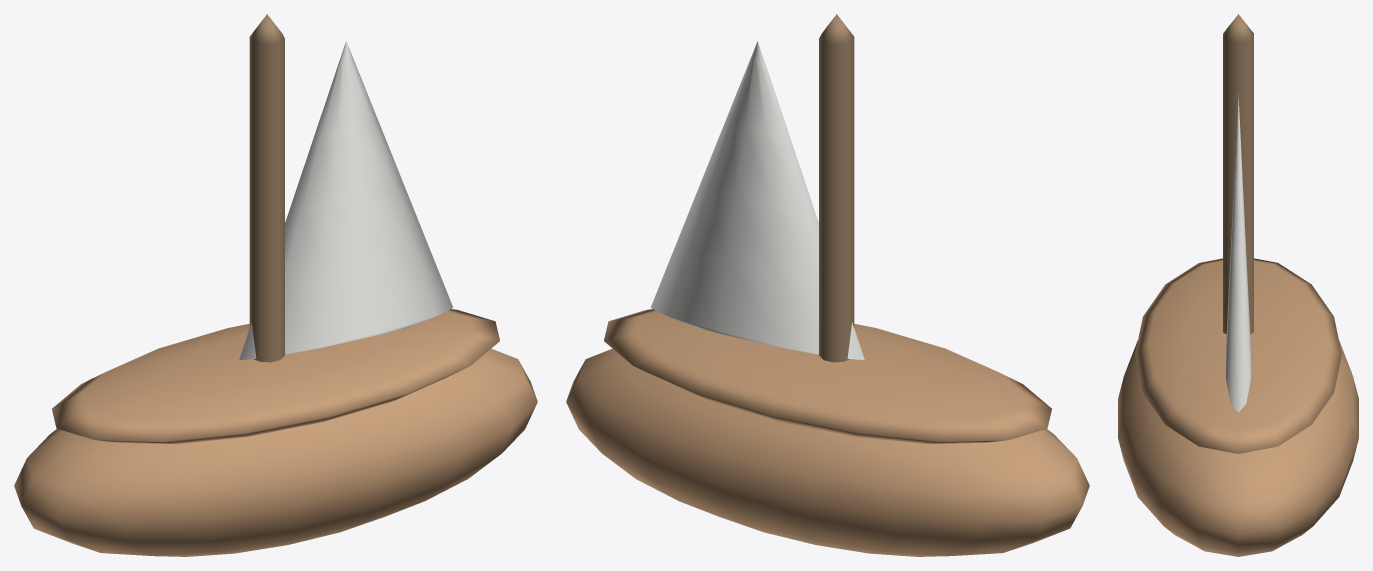
Rendered from boat.glb.
3 views of the same model, side by side, from view 1: azimuth 30°, elevation 25°; view 2: azimuth 150°, elevation 25°; view 3: azimuth 270°, elevation 25° (orthographic). The views are drawn at different scales.
Parts seen in each view (by area): view 1: Hull, Deck, Sail, Mast; view 2: Hull, Deck, Sail, Mast; view 3: Deck, Hull, Mast, Sail.
Part boxes in pixels (<box>): Hull: <box>14,348,537,556</box>; Deck: <box>52,309,499,444</box>; Sail: <box>239,41,453,359</box>; Mast: <box>249,14,284,362</box>; Hull: <box>566,348,1089,556</box>; Deck: <box>604,309,1051,444</box>; Sail: <box>650,41,864,359</box>; Mast: <box>819,14,854,362</box>; Deck: <box>1135,258,1341,453</box>; Hull: <box>1118,340,1358,556</box>; Mast: <box>1223,14,1253,334</box>; Sail: <box>1226,92,1250,412</box>.
Size of the model in its own units: 1.16 by 1.12 by 0.5121.
